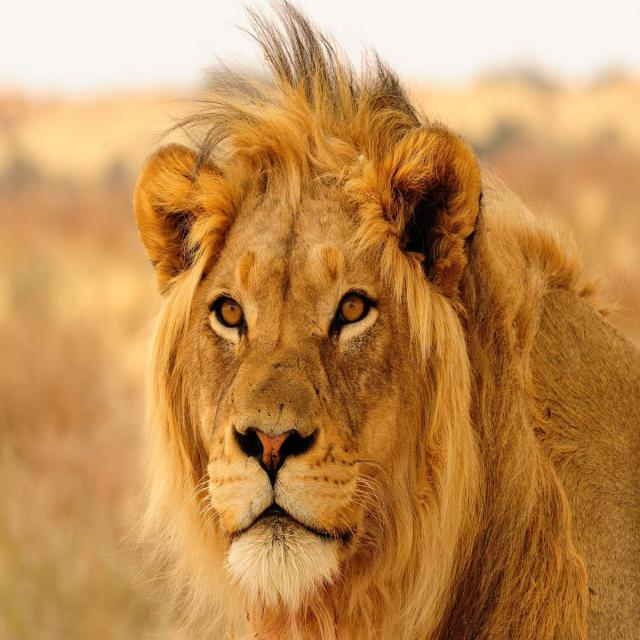Lion: (118, 0, 638, 639)
